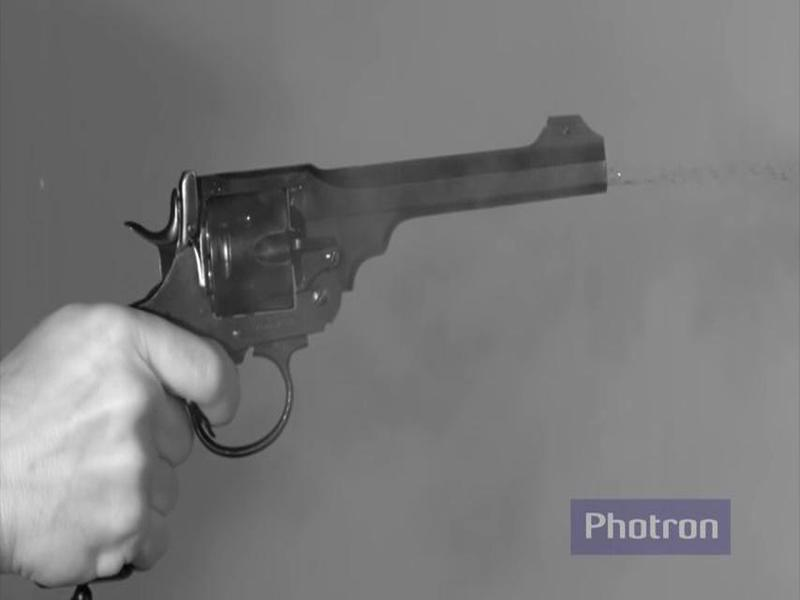Revolver: (114, 16, 620, 492)
